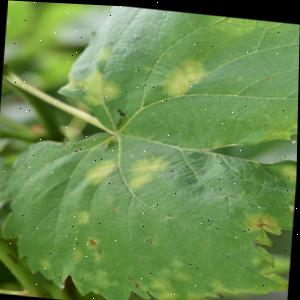Folha: (0, 0, 300, 300)
Fungo: (158, 52, 209, 97), (150, 252, 193, 300), (126, 149, 172, 191), (82, 66, 124, 108), (78, 249, 119, 291), (83, 153, 118, 185), (246, 209, 284, 232), (89, 38, 117, 64), (63, 243, 85, 276), (276, 158, 297, 182), (113, 105, 127, 126), (87, 236, 102, 252), (75, 208, 91, 223), (29, 122, 46, 133), (5, 251, 20, 263), (126, 274, 142, 285), (39, 257, 52, 270), (204, 288, 224, 296), (256, 218, 270, 226), (144, 288, 155, 297), (212, 287, 224, 295), (88, 237, 97, 245), (252, 235, 261, 243), (145, 235, 155, 241), (111, 206, 120, 211), (59, 281, 66, 287), (134, 279, 141, 285), (267, 122, 274, 127), (288, 135, 296, 139)
